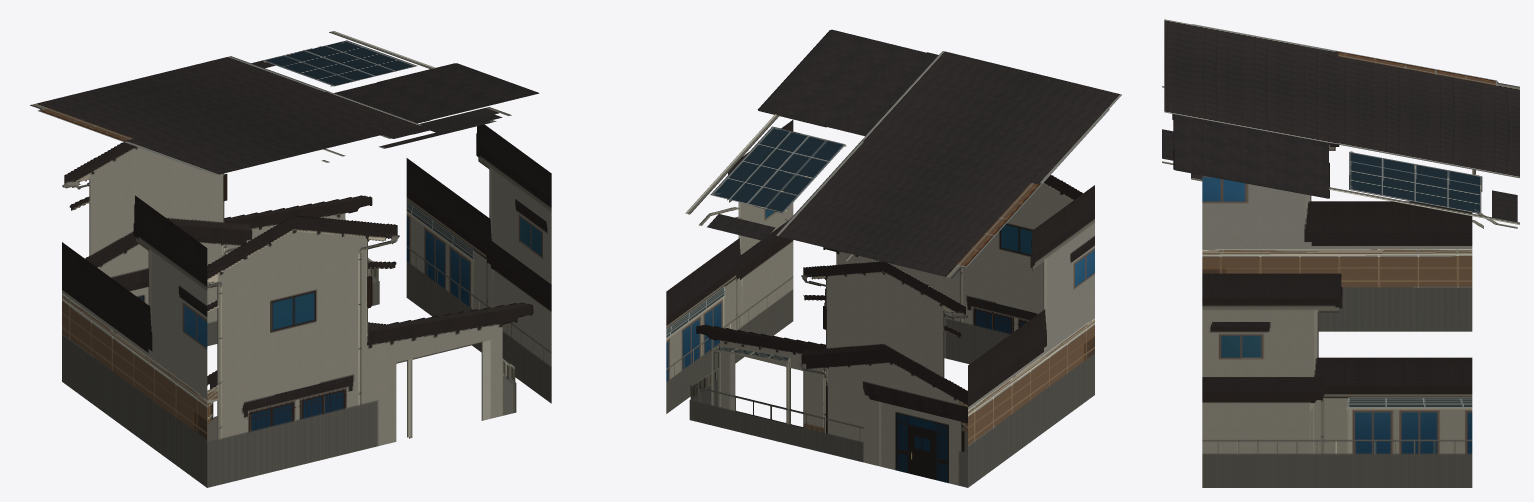
The model's file is house002_low_color1.fbx.
The picture shows the model from 3 angles, left to right: view 1: azimuth 30°, elevation 25°; view 2: azimuth 150°, elevation 25°; view 3: azimuth 270°, elevation 25°; orthographic projection. The views are drawn at different scales.
Parts seen in each view (by area): view 1: house002_low; view 2: house002_low; view 3: house002_low.
Part boxes in pixels (bbox=[...]): house002_low: bbox=[30, 31, 551, 487]; house002_low: bbox=[666, 29, 1121, 487]; house002_low: bbox=[1162, 19, 1519, 487].
Bounding box in the file's own units: 13.66 × 11.08 × 11.69.
